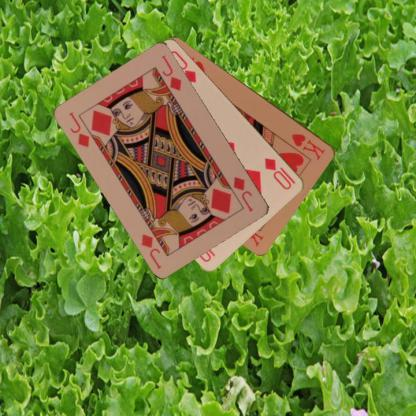10d: (262, 156, 294, 192)
Jd: (66, 109, 92, 149), (230, 174, 255, 213)
Kh: (289, 130, 326, 161)
